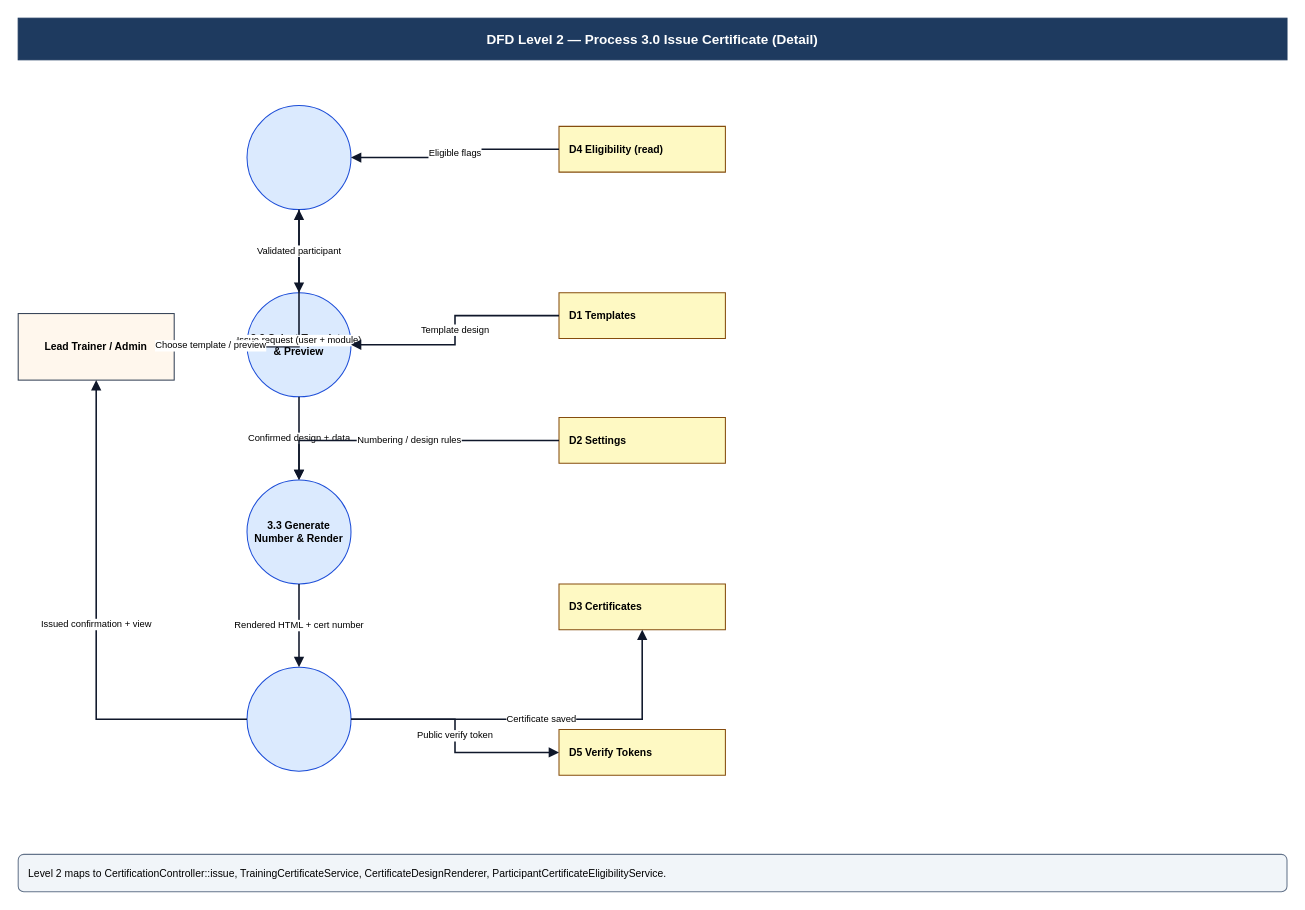
This 1305x910 diagram has some shape labels left out. Each missing label, with the box of its shape:
3.1 Validate Eligibility: (246, 105, 351, 210)
3.4 Persist & Notify: (246, 666, 351, 771)
